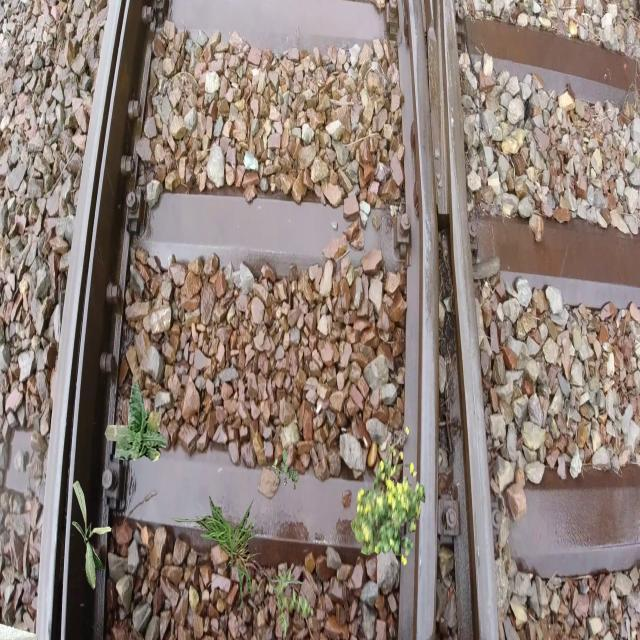Plant: (162, 496, 306, 616), (351, 426, 426, 566), (104, 379, 168, 462), (72, 480, 112, 590), (273, 568, 314, 640), (272, 449, 300, 490)
